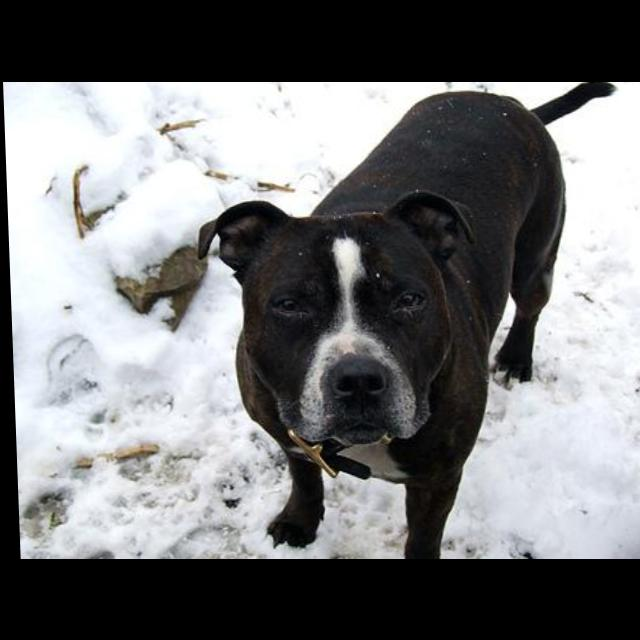amstaff: (191, 83, 633, 560)
